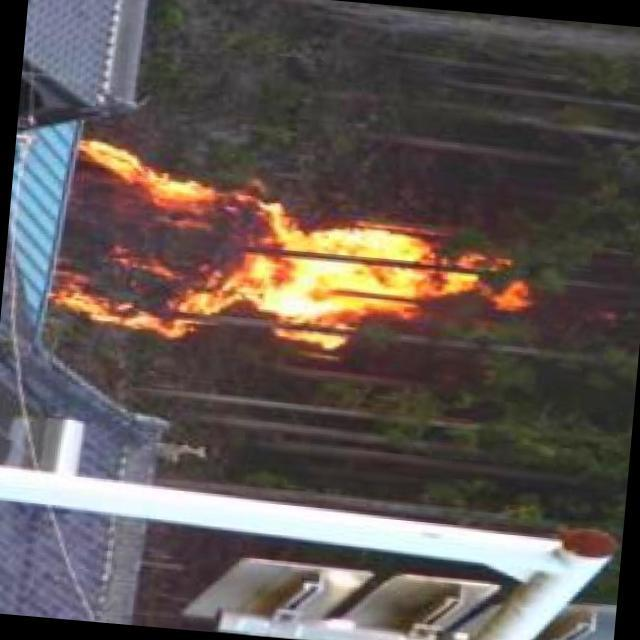Fire: (46, 142, 548, 371)
